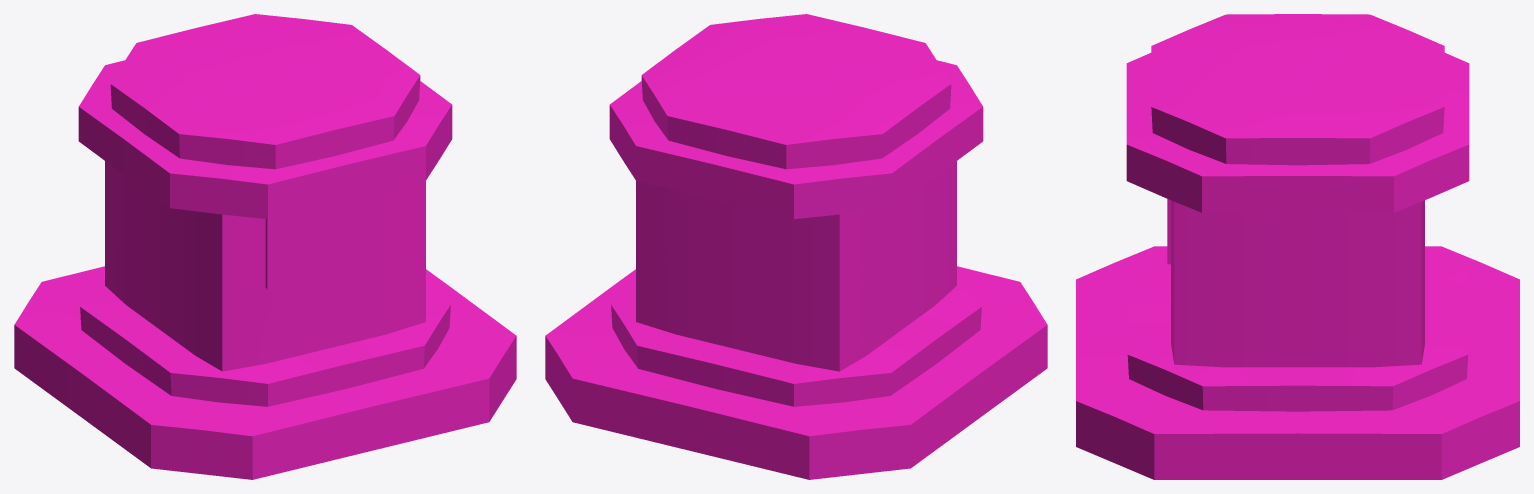
Rendered from StatueBase.fbx.
3 views of the same model, side by side, from view 1: azimuth 30°, elevation 25°; view 2: azimuth 150°, elevation 25°; view 3: azimuth 270°, elevation 25° (orthographic). The views are drawn at different scales.
Visible parts, largest first — view 1: statue_base; view 2: statue_base; view 3: statue_base.
Part boxes in pixels (bbox=[...]): statue_base: bbox=[14, 14, 516, 479]; statue_base: bbox=[545, 14, 1047, 479]; statue_base: bbox=[1076, 14, 1519, 479].
Size of the model in its own units: 179 by 139 by 179.
